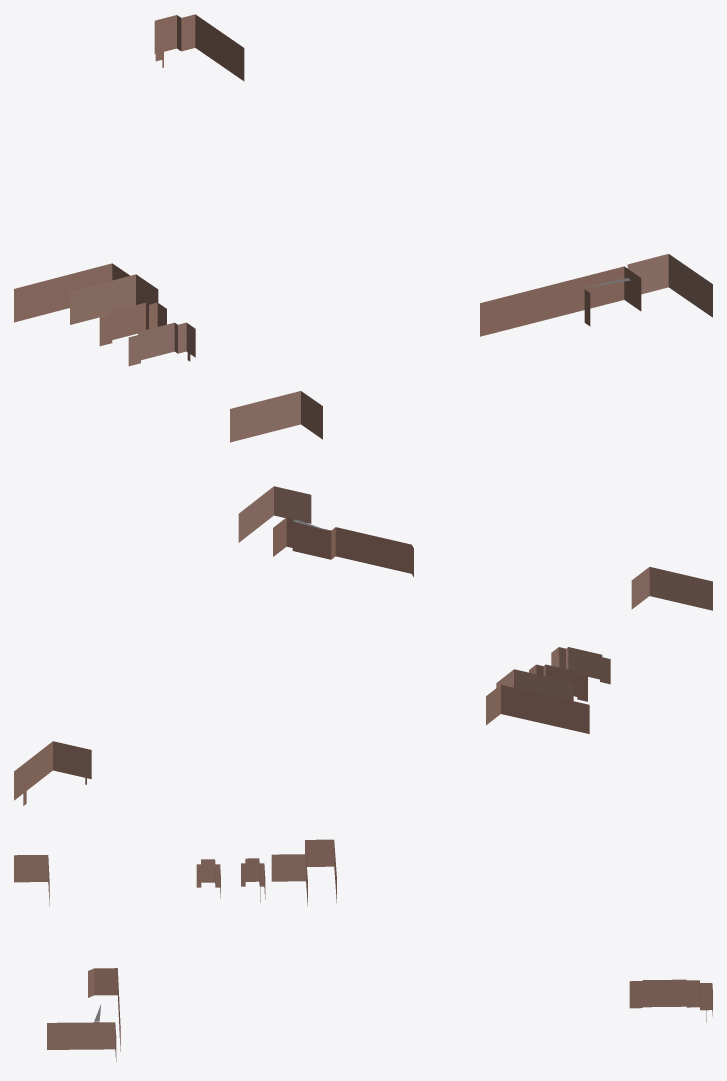
File: c_1635_17824_buildings_residential.glb
The picture shows the model from 3 angles, top to bottom: view 1: azimuth 30°, elevation 25°; view 2: azimuth 150°, elevation 25°; view 3: azimuth 270°, elevation 25°; orthographic projection. The views are drawn at different scales.
Parts seen in each view (by area): view 1: geometry_0; view 2: geometry_0; view 3: geometry_0.
Part boxes in pixels (left/top/right/bottom): geometry_0: left=14, top=14, right=712, bottom=442; geometry_0: left=14, top=486, right=712, bottom=805; geometry_0: left=14, top=839, right=712, bottom=1061.
Bounding box in the file's own units: 179 × 13.41 × 257.
